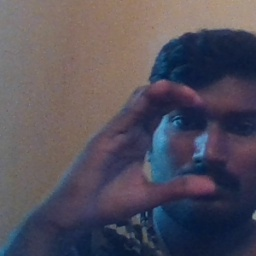C: (120, 75, 219, 211)
